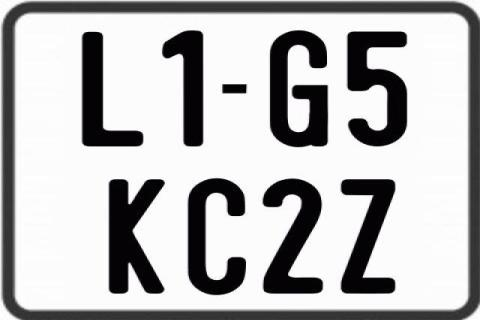0: (344, 31, 408, 149), (260, 178, 322, 294), (161, 28, 202, 144)
C: (185, 177, 247, 293)
G: (268, 30, 327, 150)
K: (109, 178, 165, 294)
L: (81, 32, 143, 146)
Z: (341, 180, 397, 294)
